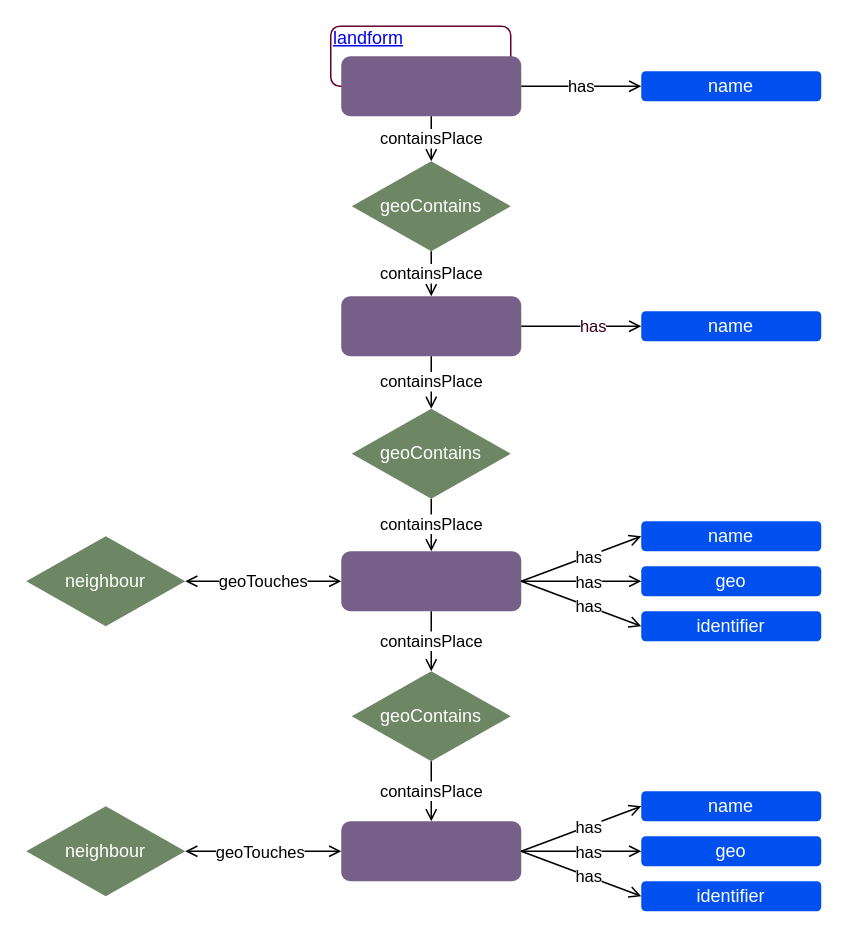
Image size: 846x938. Some labels were removed from this diagram. The box of each missing label's shape, as (x1, y1, x2, y2) in pixels:
Continent: (340, 56, 520, 116)
Country: (340, 550, 520, 610)
State: (340, 820, 520, 880)
Subregion: (340, 296, 520, 356)
